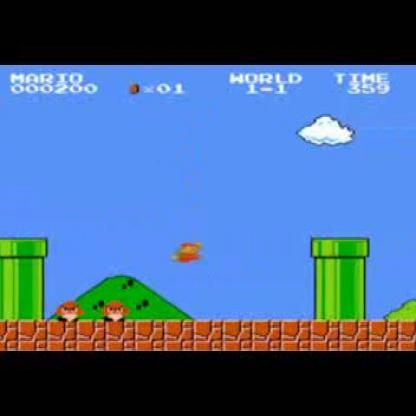Goomba: (55, 297, 83, 321), (102, 297, 128, 321)
